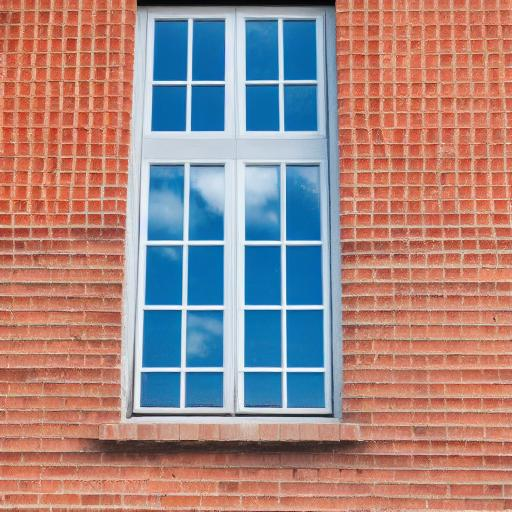Window: (99, 0, 365, 447)
